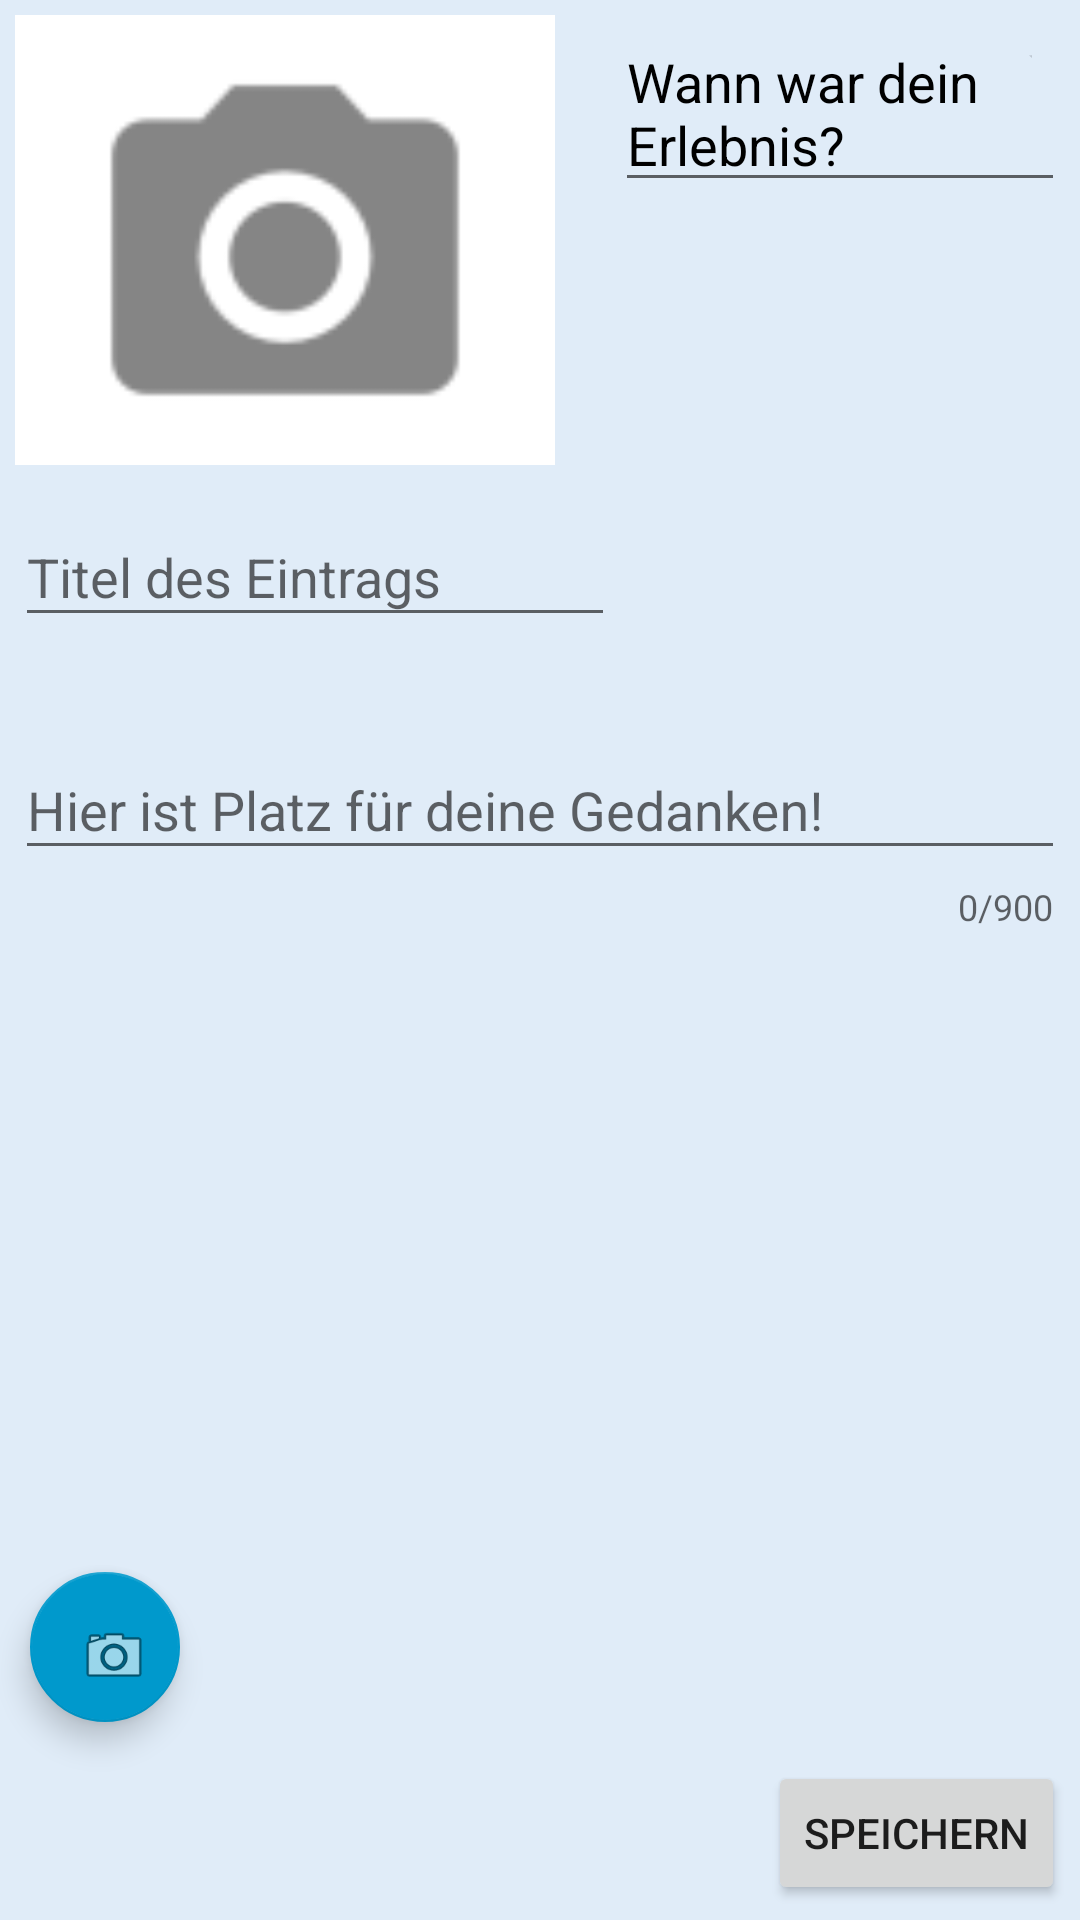

Named icons in this screenshot (1080*1920) and their bounding boxes, (x1, y1, x2, y2):
camera: (30, 1572, 180, 1722)
